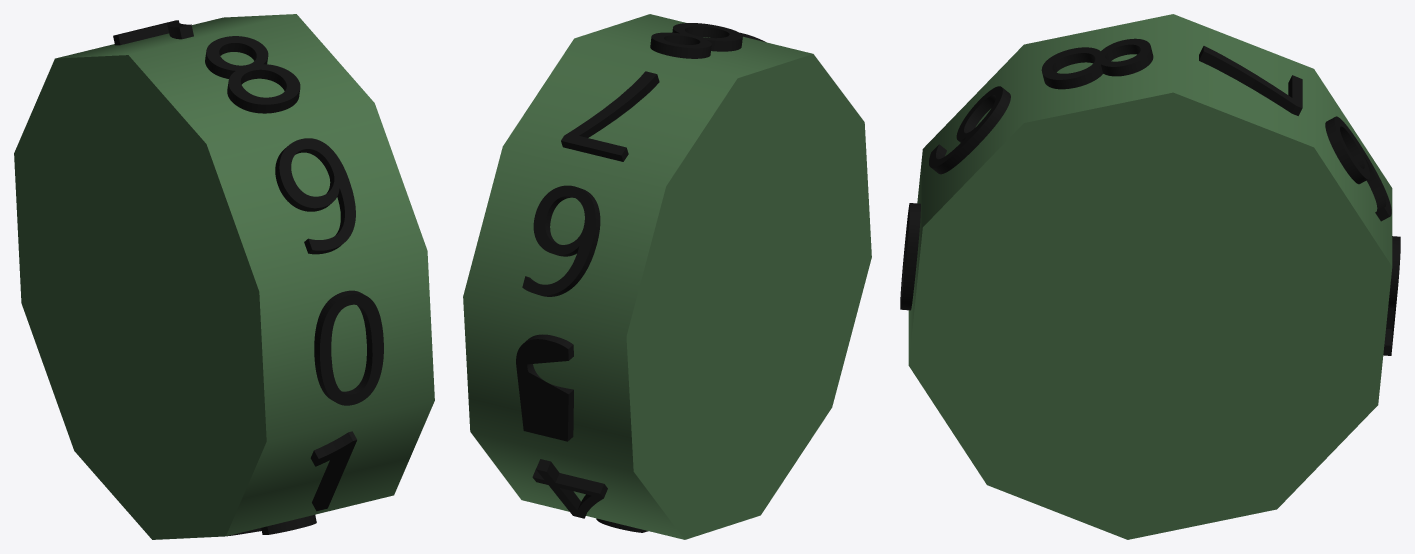
The model's file is sifferhjul.fbx.
3 renders of one model, left to right at view 1: azimuth 30°, elevation 25°; view 2: azimuth 150°, elevation 25°; view 3: azimuth 270°, elevation 25°, orthographic. The views are drawn at different scales.
Parts seen in each view (by area): view 1: Hjul_1, Cap_1_2, Cap_1, Cap_1_3, Cap_1_10; view 2: Hjul_1, Cap_1_6, Cap_1_5, Cap_1_4, Cap_1_3, Cap_1_7; view 3: Hjul_1, Cap_1_3, Cap_1_2, Cap_1_4, Cap_1_5.
Part boxes in pixels (x1=…): Hjul_1: x1=14, y1=14, x2=434, y2=539; Cap_1_2: x1=279, y1=138, x2=355, y2=250; Cap_1: x1=320, y1=294, x2=383, y2=405; Cap_1_3: x1=206, y1=36, x2=300, y2=104; Cap_1_10: x1=315, y1=440, x2=356, y2=510; Hjul_1: x1=463, y1=14, x2=871, y2=539; Cap_1_6: x1=516, y1=339, x2=568, y2=441; Cap_1_5: x1=522, y1=185, x2=595, y2=295; Cap_1_4: x1=561, y1=71, x2=656, y2=155; Cap_1_3: x1=651, y1=23, x2=742, y2=48; Cap_1_7: x1=533, y1=469, x2=603, y2=518; Hjul_1: x1=900, y1=14, x2=1400, y2=539; Cap_1_3: x1=1041, y1=38, x2=1150, y2=79; Cap_1_2: x1=929, y1=86, x2=1002, y2=167; Cap_1_4: x1=1203, y1=46, x2=1302, y2=108; Cap_1_5: x1=1334, y1=116, x2=1391, y2=216.
Size of the model in its own units: 12 by 32.65 by 32.31.
